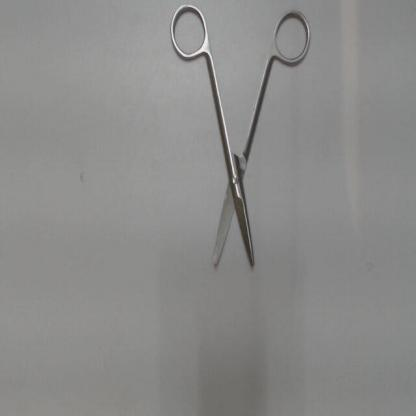Curved Mayo Scissors: (166, 1, 316, 271)
